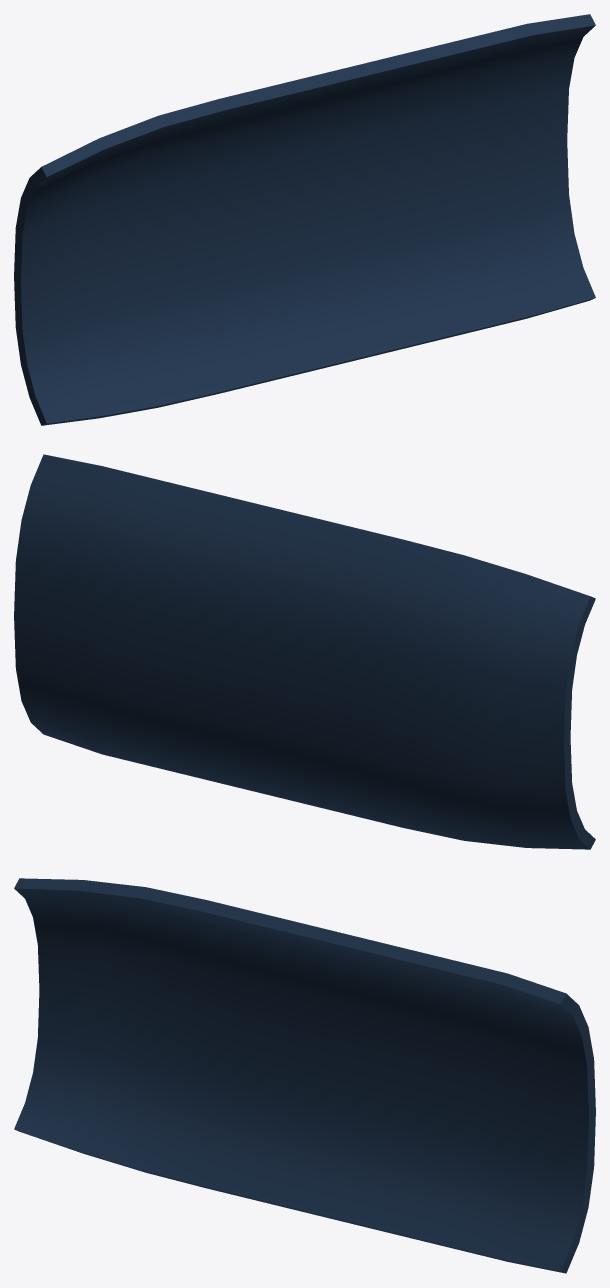
Rendered from hatch.obj.
The picture shows the model from 3 angles, top to bottom: view 1: azimuth 30°, elevation 25°; view 2: azimuth 150°, elevation 25°; view 3: azimuth 330°, elevation 25°; orthographic projection. The views are drawn at different scales.
Visible parts, largest first — view 1: hatch; view 2: hatch; view 3: hatch.
Boxes of the visible parts, <box> form: hatch: <box>14,14,595,425</box>; hatch: <box>14,454,595,849</box>; hatch: <box>14,878,595,1273</box>.
Size of the model in its own units: 0.26 by 0.1322 by 0.0353.
